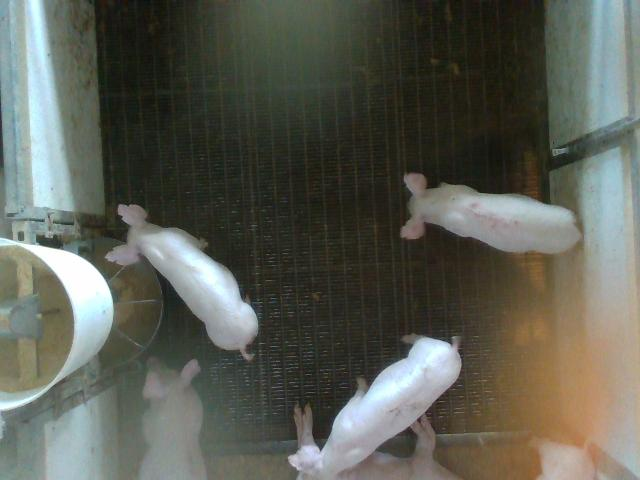pig-5: (401, 174, 581, 253)
